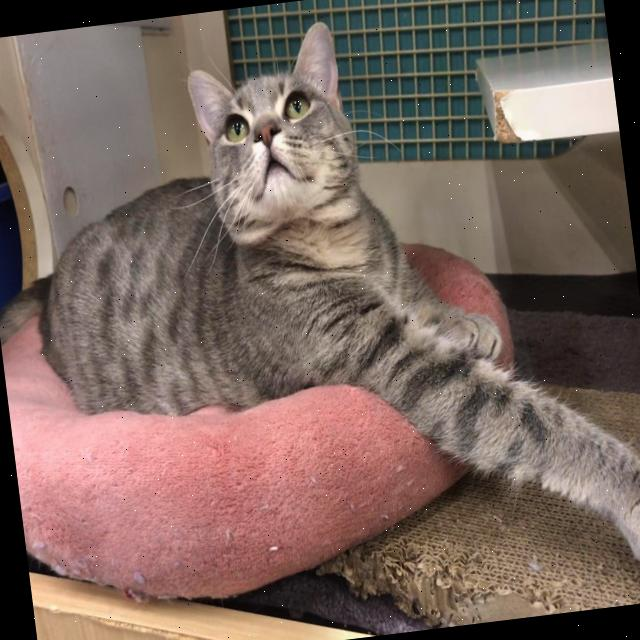american_shorthair_cat: (175, 5, 376, 278)
